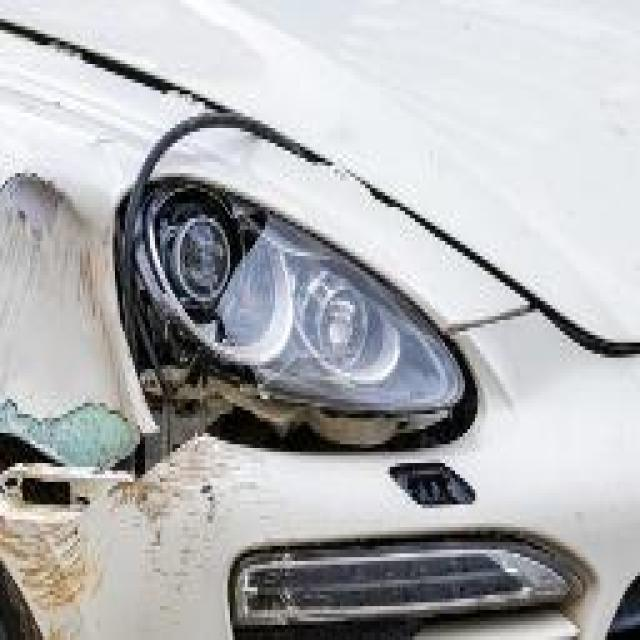Bumper: (2, 437, 454, 640)
Fender: (0, 24, 200, 463)
Light: (112, 175, 474, 452)
